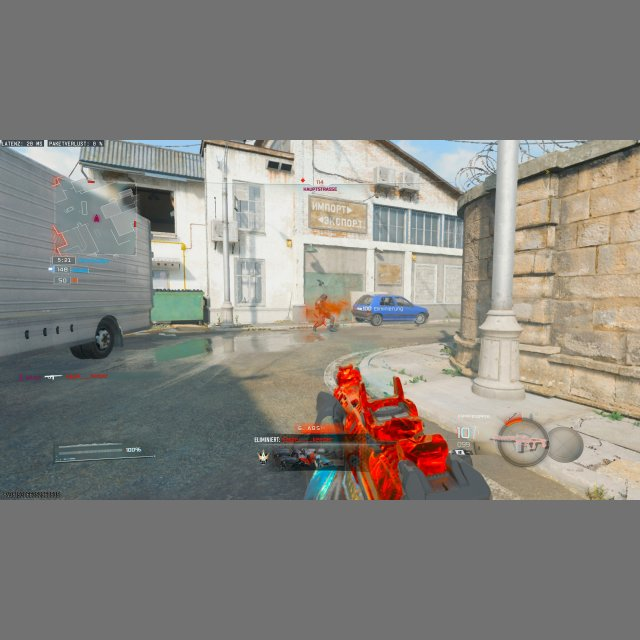head: (321, 293, 327, 301)
player: (313, 293, 336, 332)
